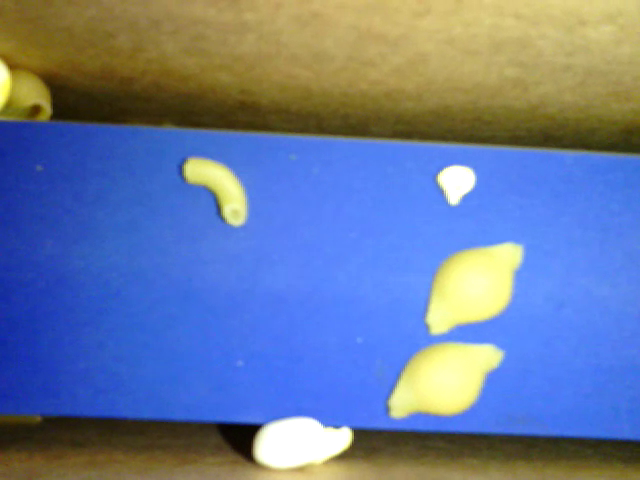elbow: (183, 159, 248, 225)
shell: (422, 244, 527, 336), (387, 345, 509, 423), (1, 67, 53, 127)
